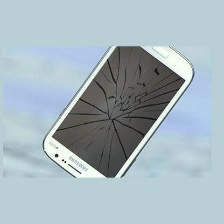phone: (37, 23, 198, 198)
